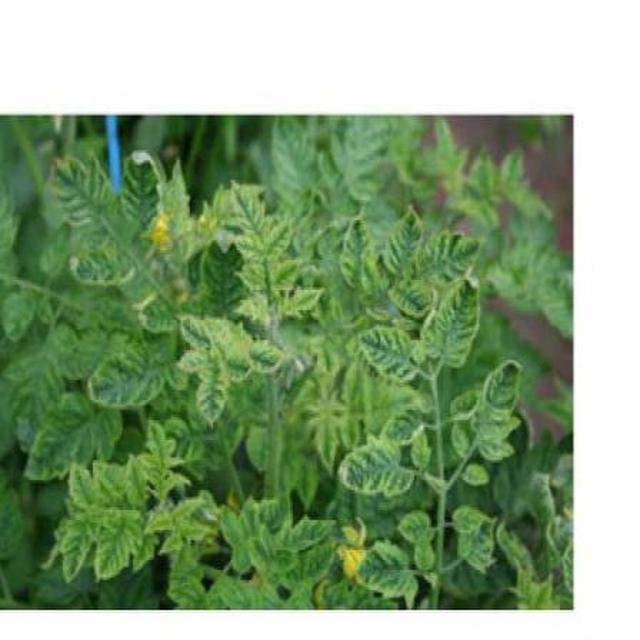Yellow Leaf Curl Virus: (47, 47, 640, 640)
